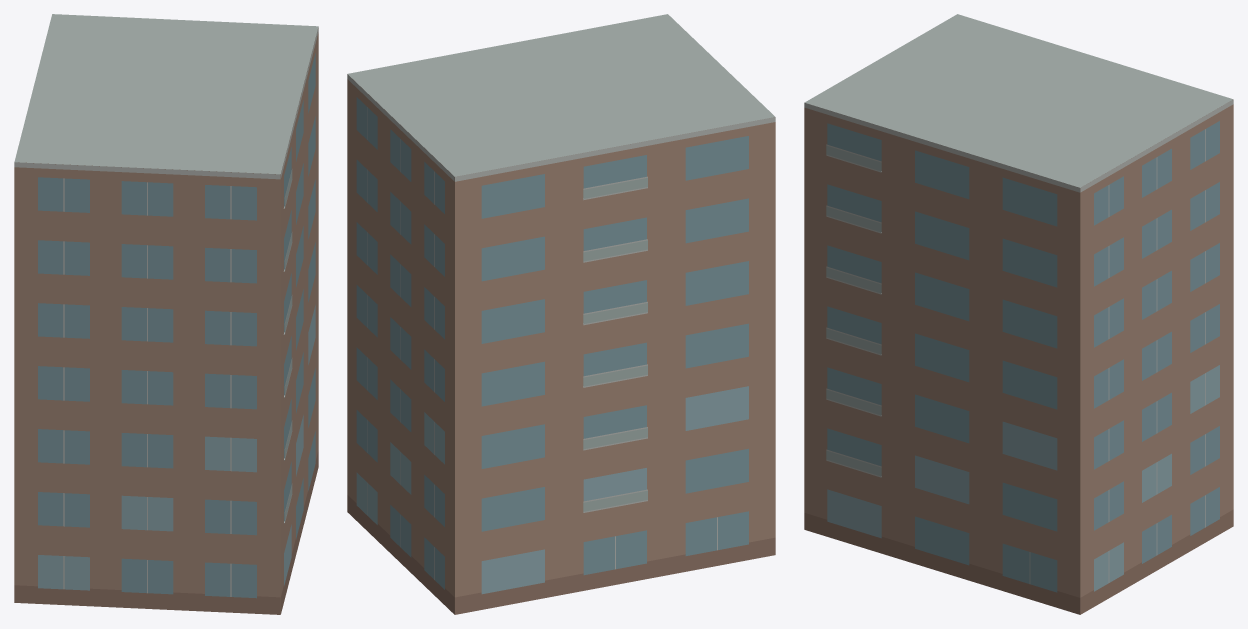
File: survey-upis-32508724.glb
The picture shows the model from 3 angles, left to right: view 1: azimuth 30°, elevation 25°; view 2: azimuth 150°, elevation 25°; view 3: azimuth 270°, elevation 25°; orthographic projection. The views are drawn at different scales.
Parts seen in each view (by area): view 1: survey-upis-32508724.tmp; view 2: survey-upis-32508724.tmp; view 3: survey-upis-32508724.tmp.
Boxes of the visible parts, x1,y1,x2,y2 form: survey-upis-32508724.tmp: (14,14,318,614); survey-upis-32508724.tmp: (347,14,775,614); survey-upis-32508724.tmp: (804,14,1233,614).
Bounding box in the file's own units: 18.65 × 21.35 × 19.46.
